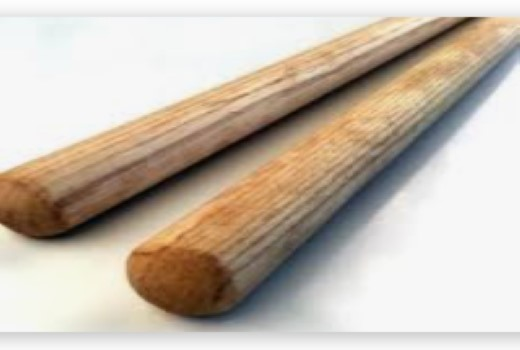baston_e: (156, 34, 509, 232), (88, 18, 396, 227)
baston_v: (111, 222, 283, 331), (0, 141, 78, 256)
